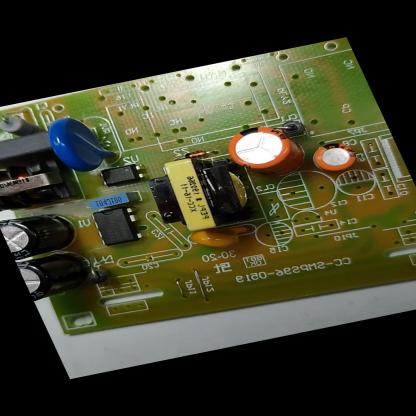Cap1: (220, 120, 312, 179)
Cap2: (305, 139, 363, 174)
Cap3: (0, 206, 86, 261)
Cap4: (16, 249, 100, 302), (0, 111, 39, 138)
MOSFET: (86, 203, 147, 247)
Mov: (39, 110, 121, 176)
Transformer: (140, 151, 262, 236), (0, 154, 78, 217)
